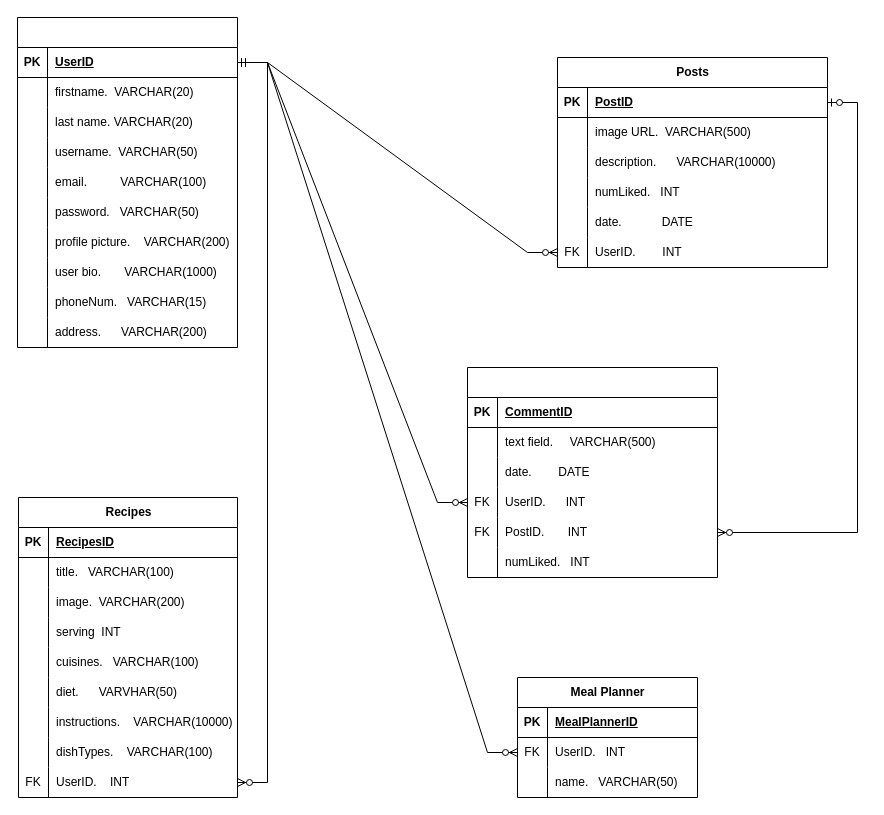
The diagram is 884 pixels wide and 815 high, and some of its shapes have lost their labels. Each missing label, with the box of its shape:
Comments: (466, 366, 718, 578)
Users: (16, 16, 238, 348)
